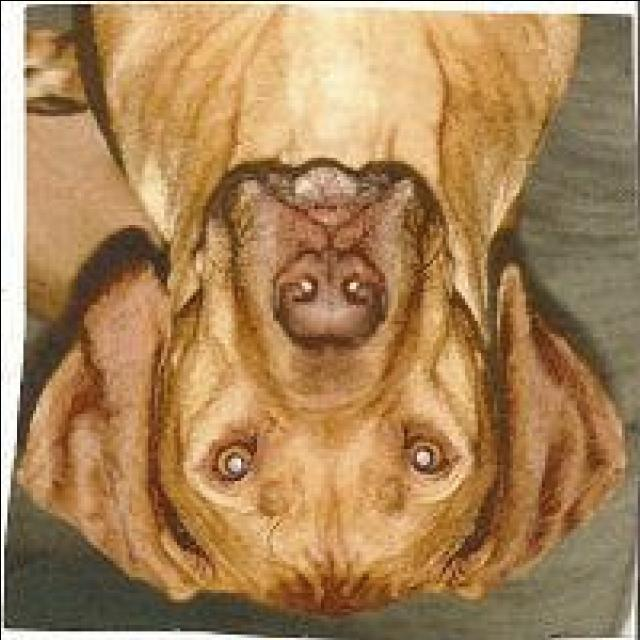rhodesian_ridgeback: (9, 4, 636, 634)
